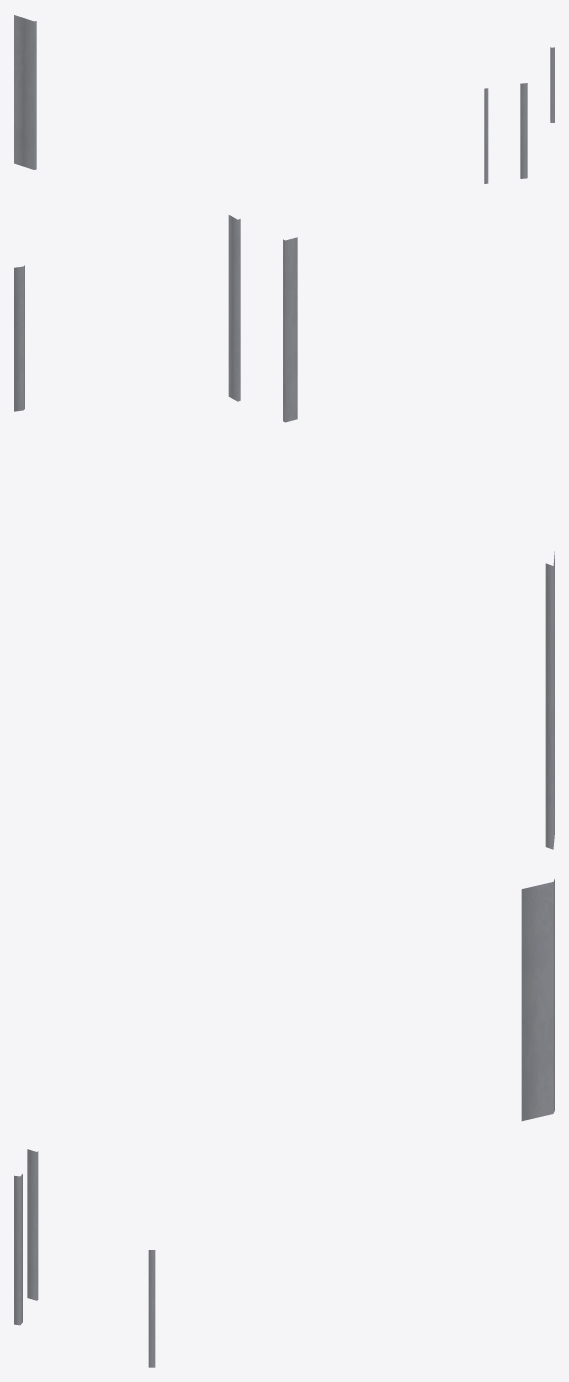
The model's file is waterfalls.glb.
3 views of the same model, one above another, from view 1: azimuth 30°, elevation 25°; view 2: azimuth 150°, elevation 25°; view 3: azimuth 270°, elevation 25° (orthographic). The views are drawn at different scales.
Parts seen in each view (by area): view 1: mine_water_reset.png__; view 2: mine_water_reset.png__; view 3: mine_water_reset.png__.
Part boxes in pixels (bbox=[...]): mine_water_reset.png__: bbox=[14, 15, 554, 183]; mine_water_reset.png__: bbox=[14, 215, 554, 849]; mine_water_reset.png__: bbox=[14, 879, 554, 1367].
Size of the model in its own units: 7.13 by 2.49 by 5.21.
Materials: 1 (1 with a texture image).
